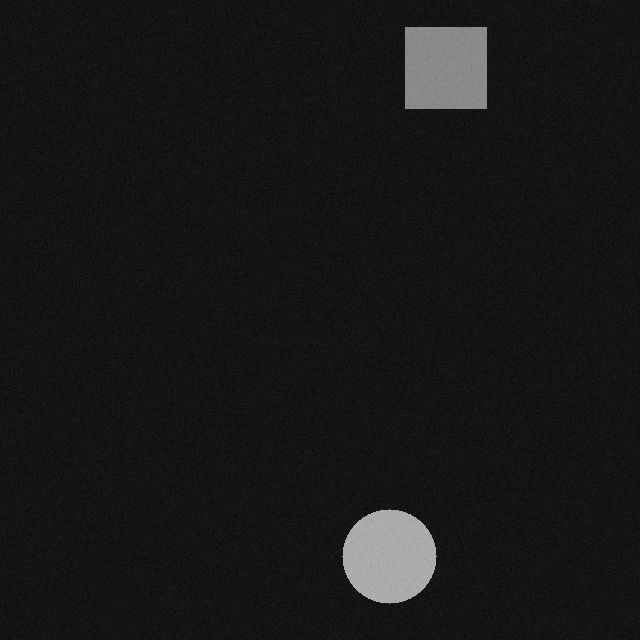circle: (350, 501, 444, 595)
square: (413, 19, 494, 100)
